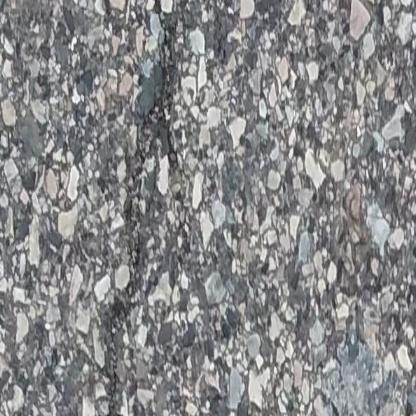Cracks: (103, 0, 198, 416)
